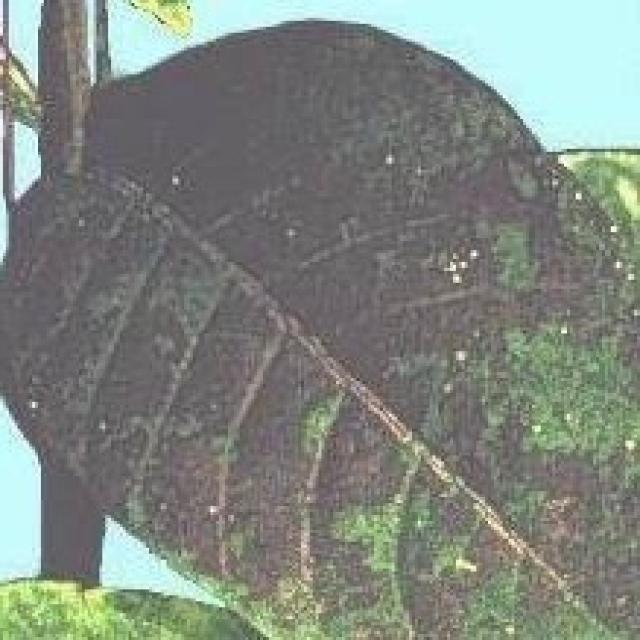Sooty Mold: (0, 15, 637, 637)
